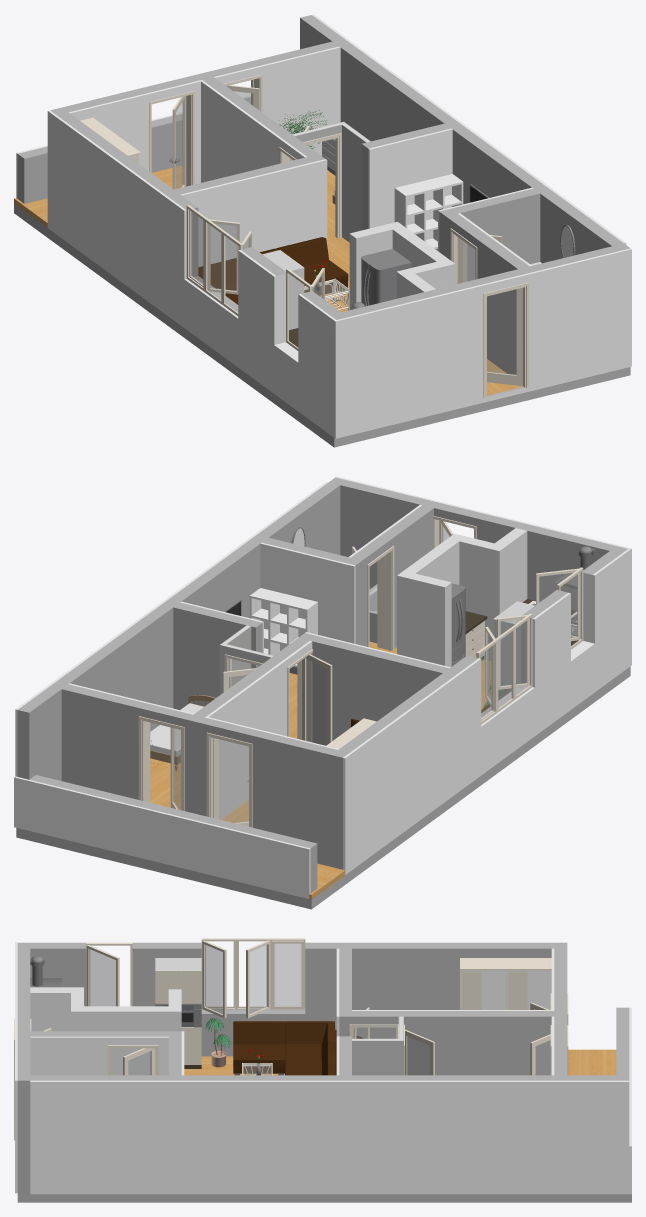
File: apartamento.glb
3 views of the same model, one above another, from view 1: azimuth 30°, elevation 25°; view 2: azimuth 150°, elevation 25°; view 3: azimuth 270°, elevation 25° (orthographic). The views are drawn at different scales.
Parts seen in each view (by area): view 1: skfb_offset; view 2: skfb_offset; view 3: skfb_offset.
Part boxes in pixels (x1,y1,x2,y2): skfb_offset: (14, 14, 631, 447); skfb_offset: (14, 476, 631, 909); skfb_offset: (14, 938, 631, 1202).
Size of the model in its own units: 6400 by 2700 by 11953.
36 materials, 1 textured.
